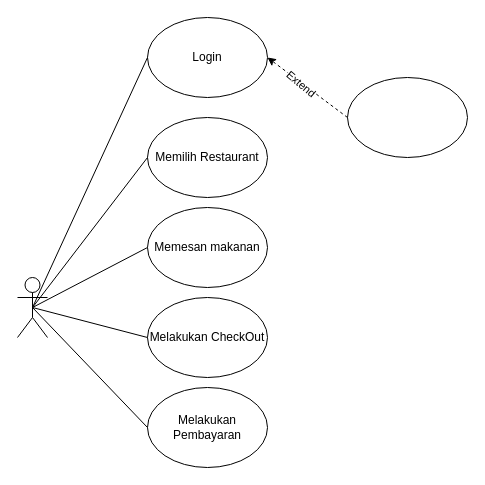
Image size: 485x485. Some labels were removed from this diagram. Each missing label, with the centre of its shape:
Actor: the point at 32,307
Sign Up: the point at 407,117
